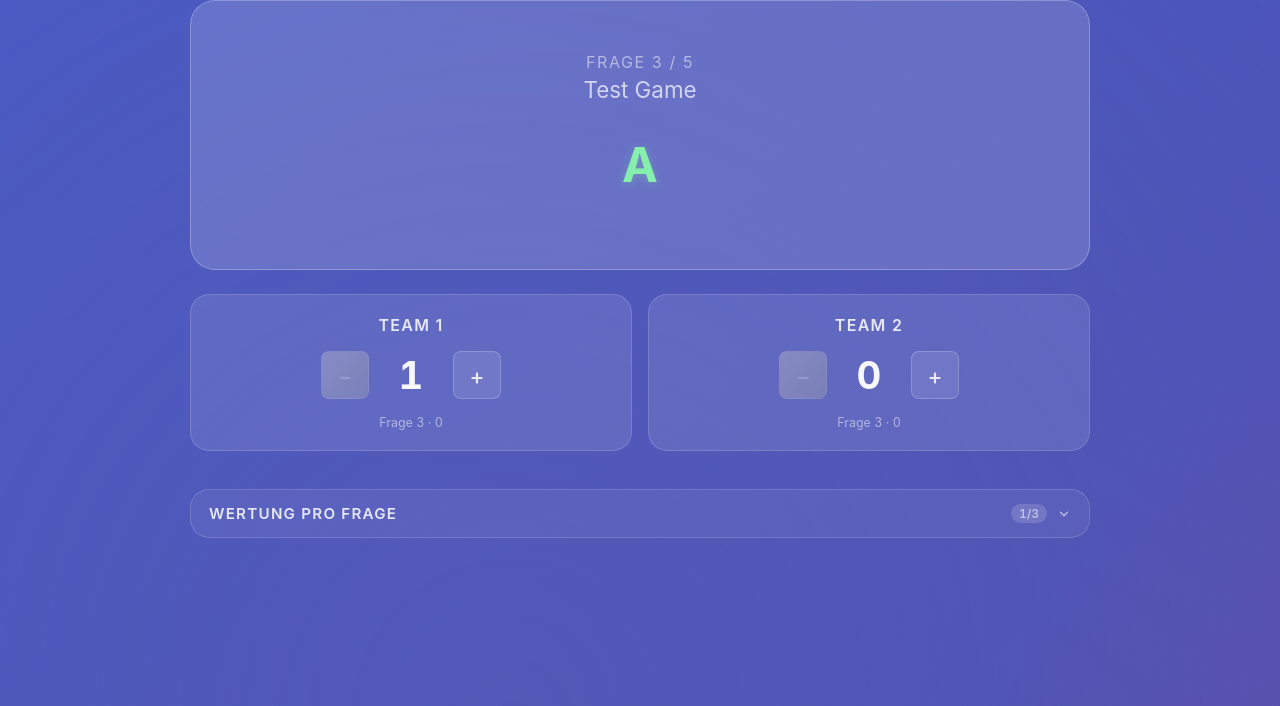
QuestionScorePanel — tally feed (normal games) › corrects a forgotten question in place
Expected: the element with class "gm-qscore" is shown, [190, 489, 1090, 538]
What coordinates should you click on to do the following:
click the text "Wertung pro Frage"
I would click on:
 (303, 514)
Its box is [209, 504, 397, 523].
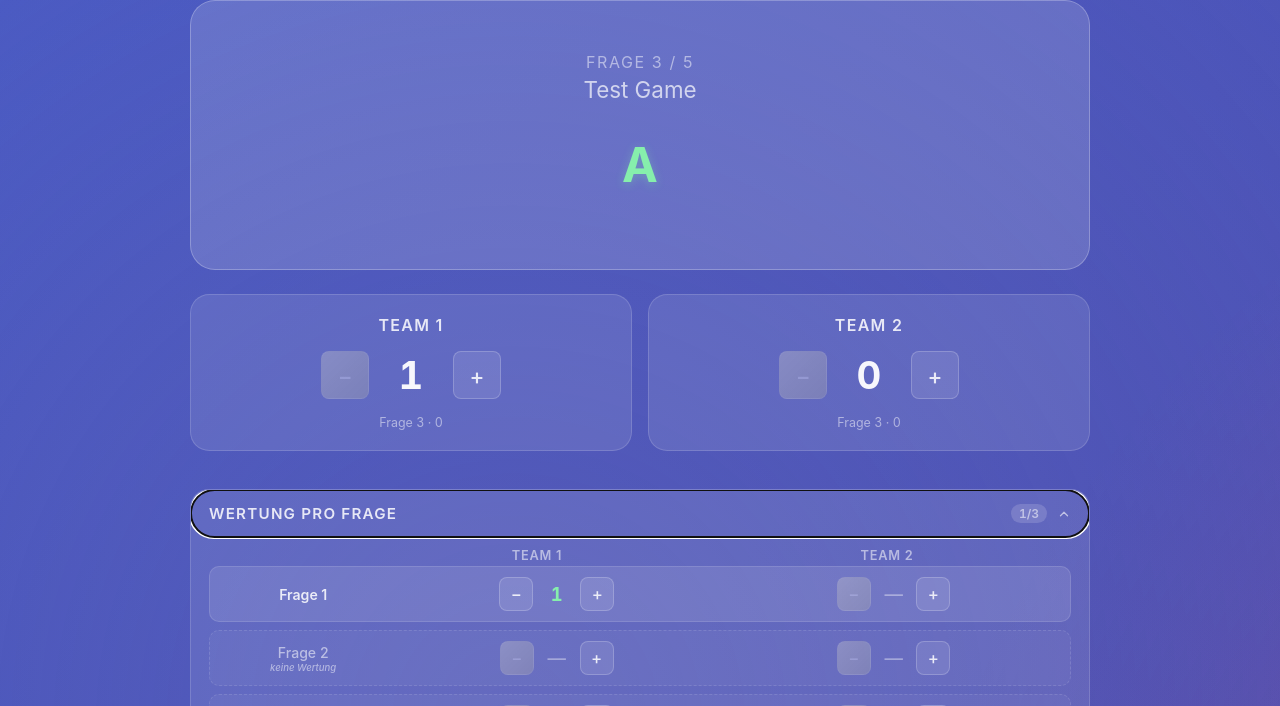
Now the text "keine Wertung" is shown 2 times
What coordinates should you click on to do the following:
click the button named "Frage 2 Team 1 plus"
I would click on:
 (597, 658)
Its box is [580, 641, 614, 675].
(page scrolled)
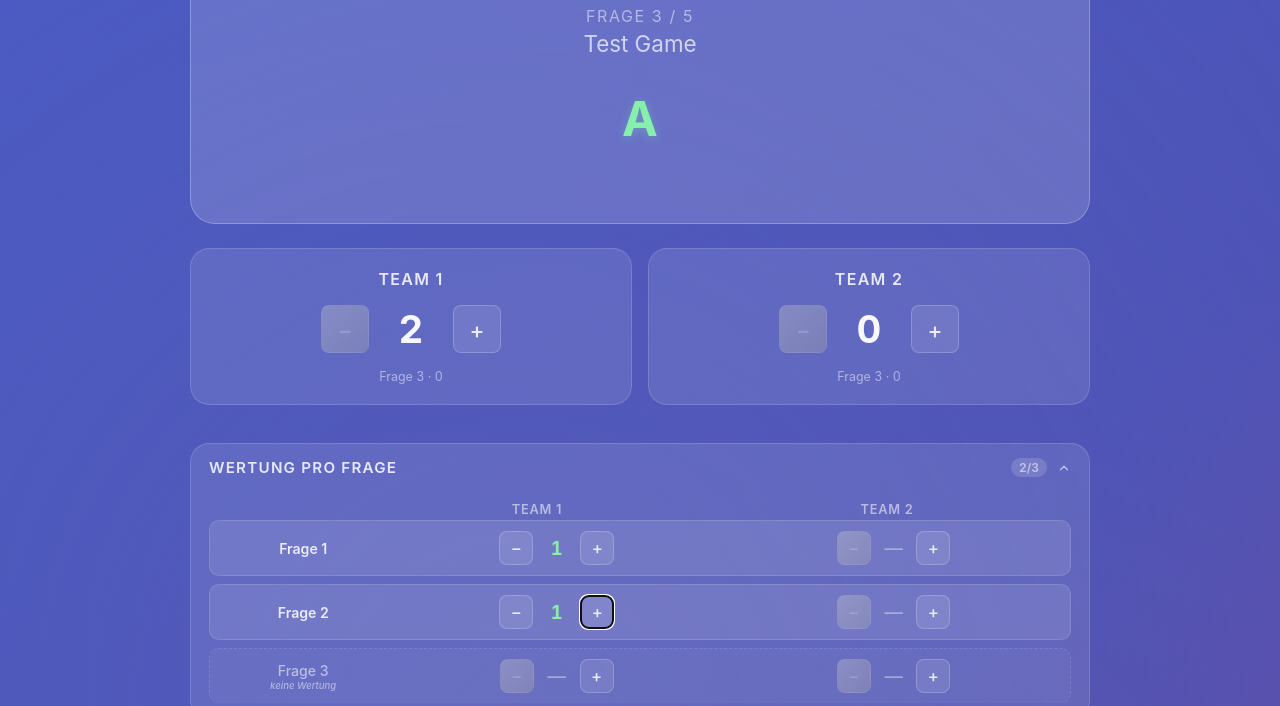
Now the number of list items with class "gm-qscore-row--empty" is 1, box [209, 648, 1071, 703]
Now the list item with class "gm-qscore-row--empty" shows "Frage 3", box [278, 662, 329, 679]
Now the text "keine Wertung" is shown once, box [270, 680, 336, 691]
